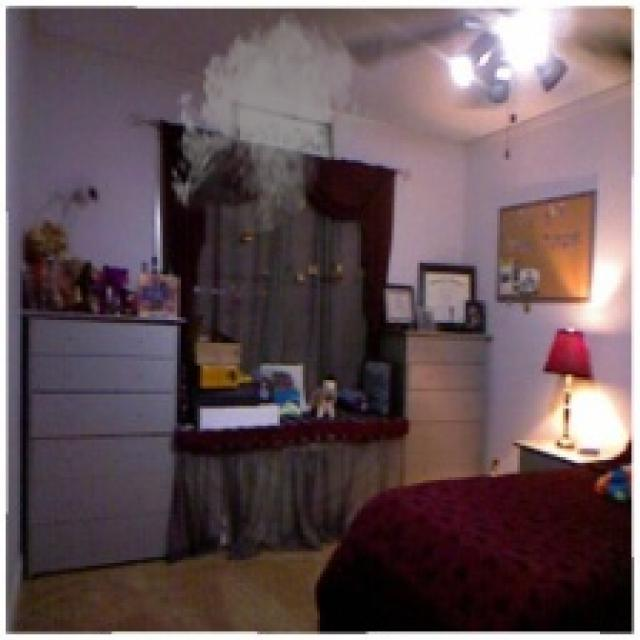smoke: (166, 9, 374, 240)
